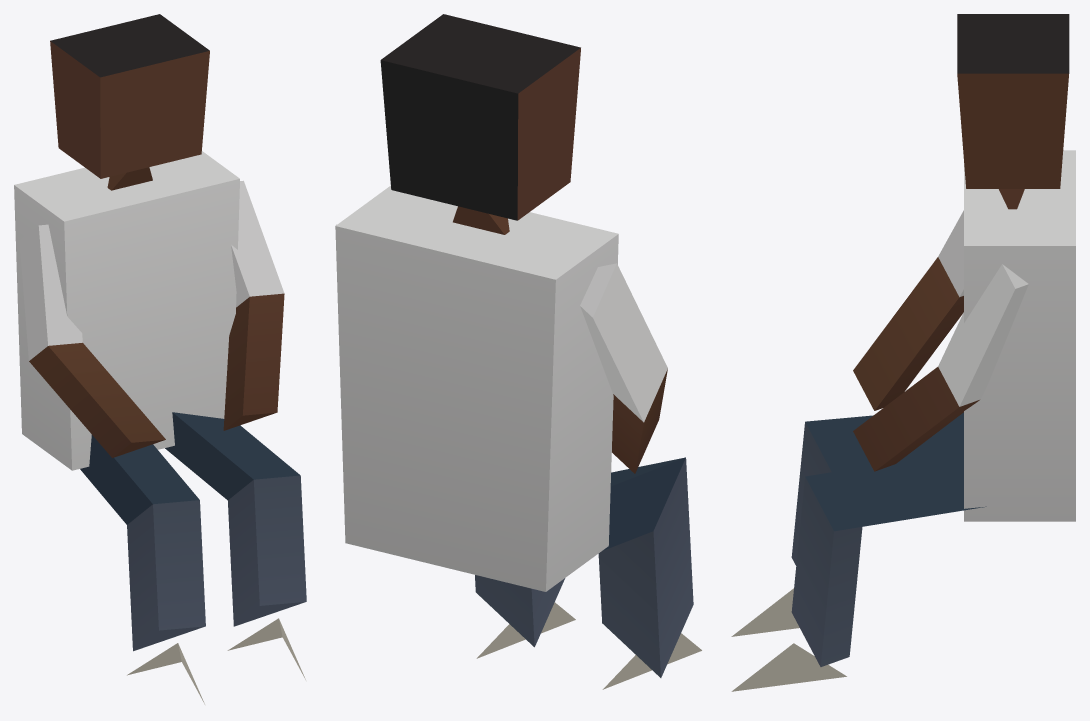
File: fan-04.glb
The picture shows the model from 3 angles, left to right: view 1: azimuth 30°, elevation 25°; view 2: azimuth 150°, elevation 25°; view 3: azimuth 270°, elevation 25°; orthographic projection. The views are drawn at different scales.
Parts seen in each view (by area): view 1: fan-04; view 2: fan-04; view 3: fan-04.
Part boxes in pixels (left/top/right/bottom): fan-04: left=14, top=14, right=306, bottom=704; fan-04: left=335, top=14, right=701, bottom=689; fan-04: left=731, top=14, right=1075, bottom=691.
Size of the model in its own units: 0.7075 by 1.53 by 0.77.
